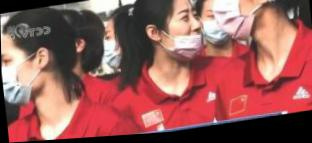OK: (2, 35, 40, 108), (209, 1, 257, 50), (200, 7, 235, 51), (101, 28, 126, 72)
WRONG: (162, 4, 205, 65)
